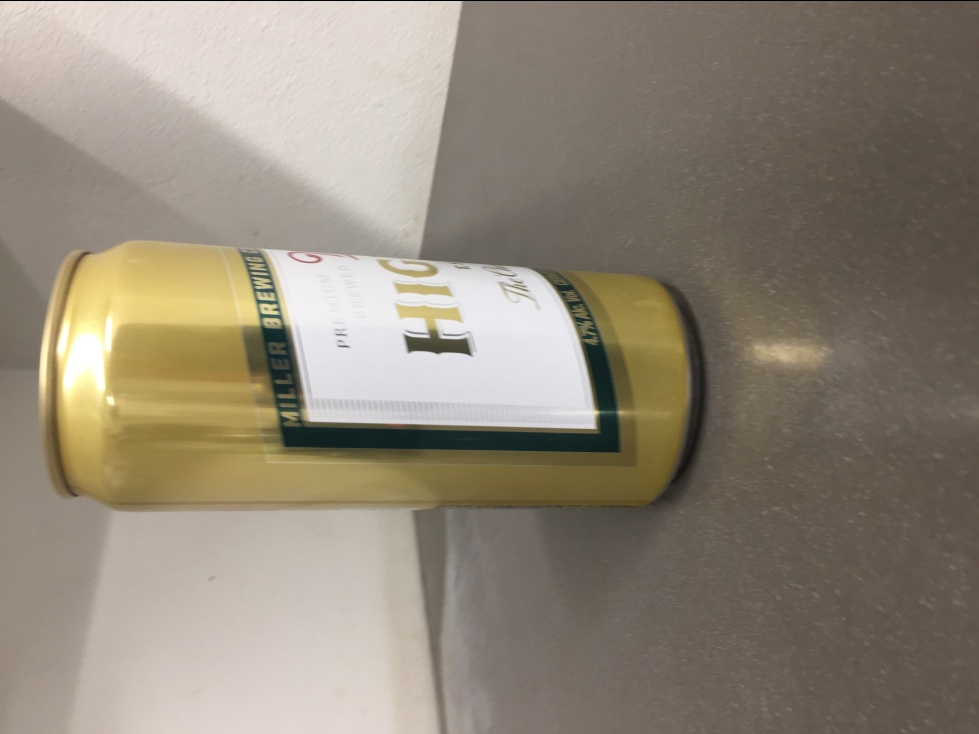miller: (35, 235, 705, 513)
